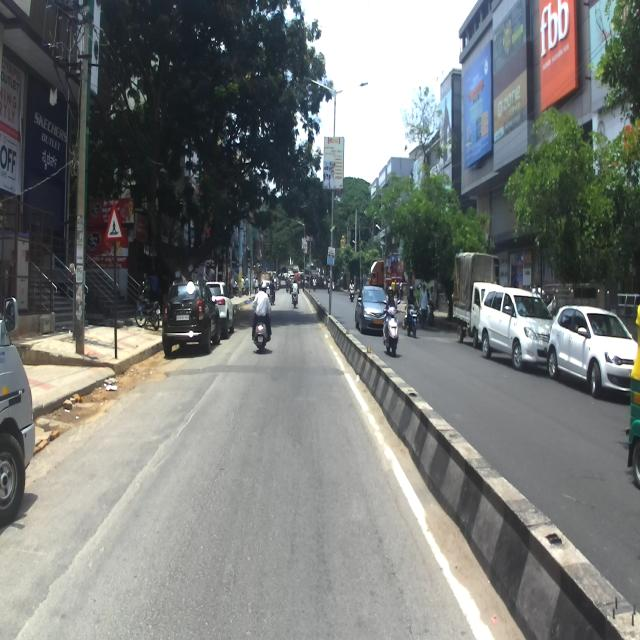car ahead at: (157, 277, 218, 359)
sign board ahead at: (104, 204, 123, 252)
